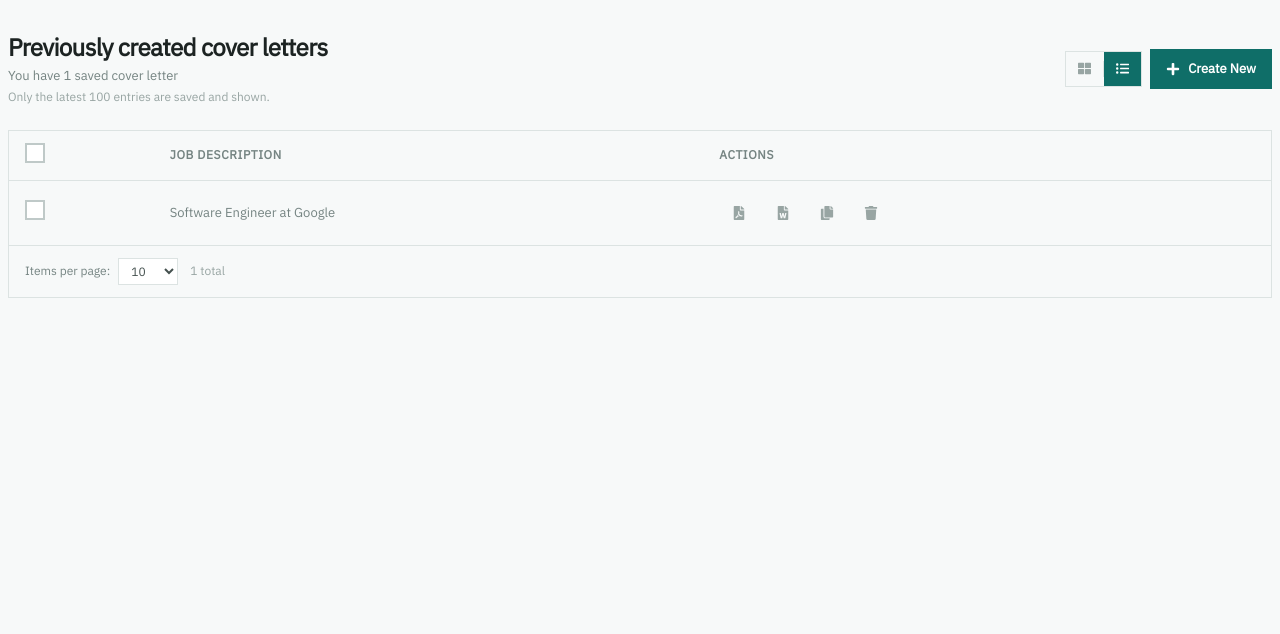
Scenario: PreviousCoverLettersView — downloads › downloads the PDF in whichever design is chosen from the picker
Click the button titled "Choose a PDF design".
click(739, 212)  # box [719,192,759,232]
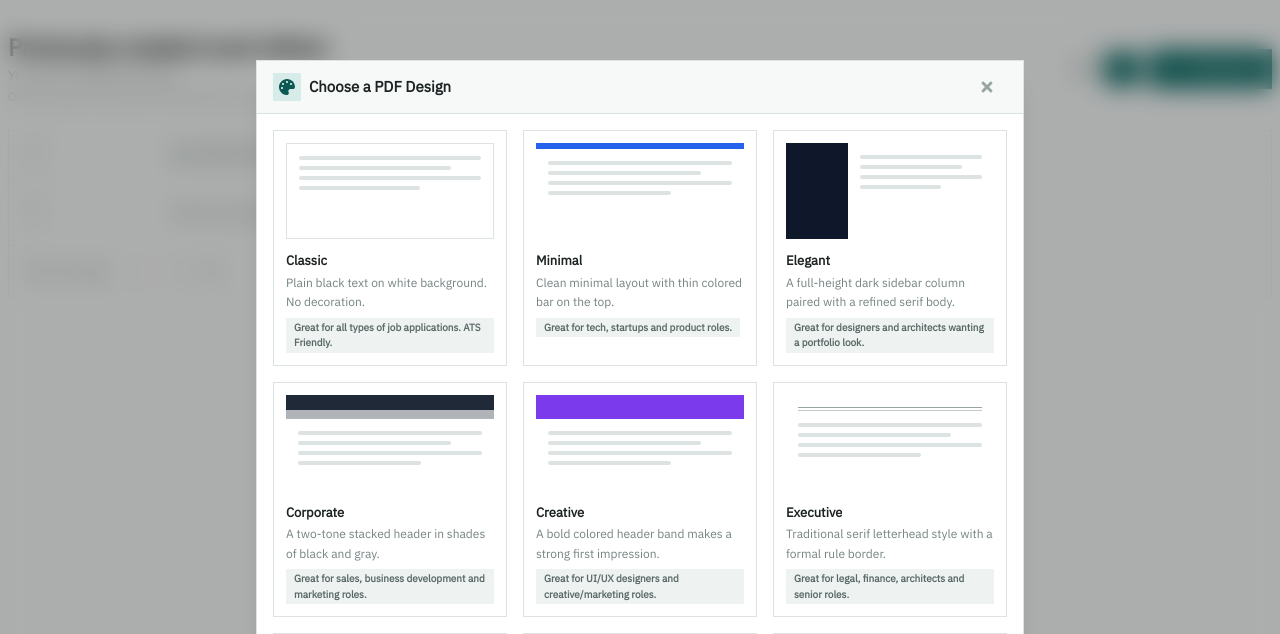
Click the heading "Executive".
click(814, 512)  # box [786,502,842,522]
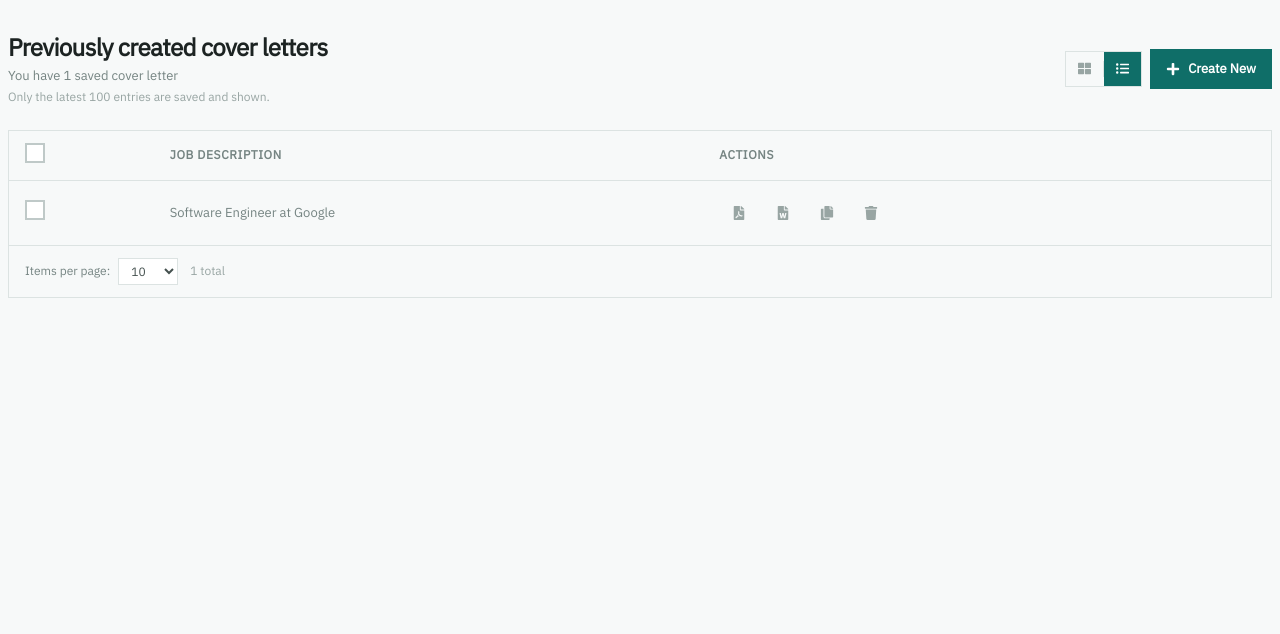
Check: the heading "Choose a PDF Design" is gone
